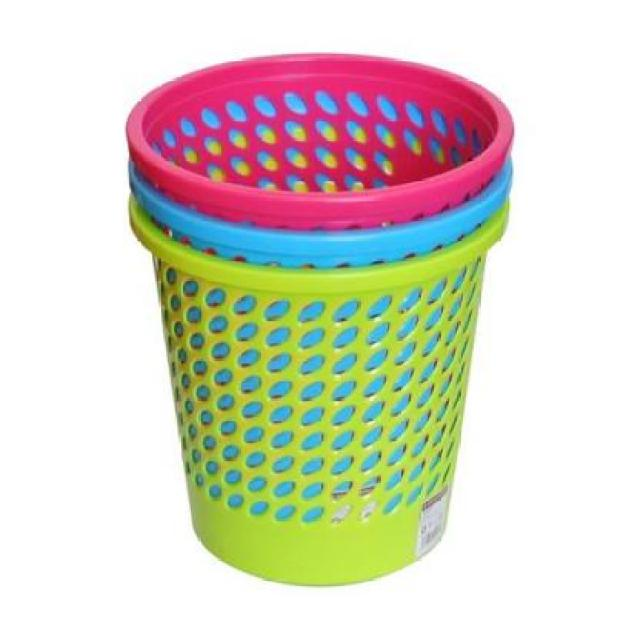dustbin: (124, 50, 518, 592)
